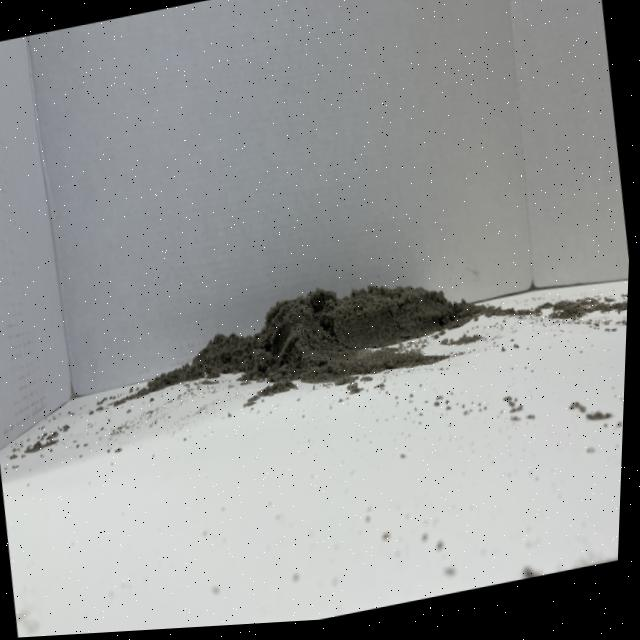sand: (124, 233, 521, 446)
